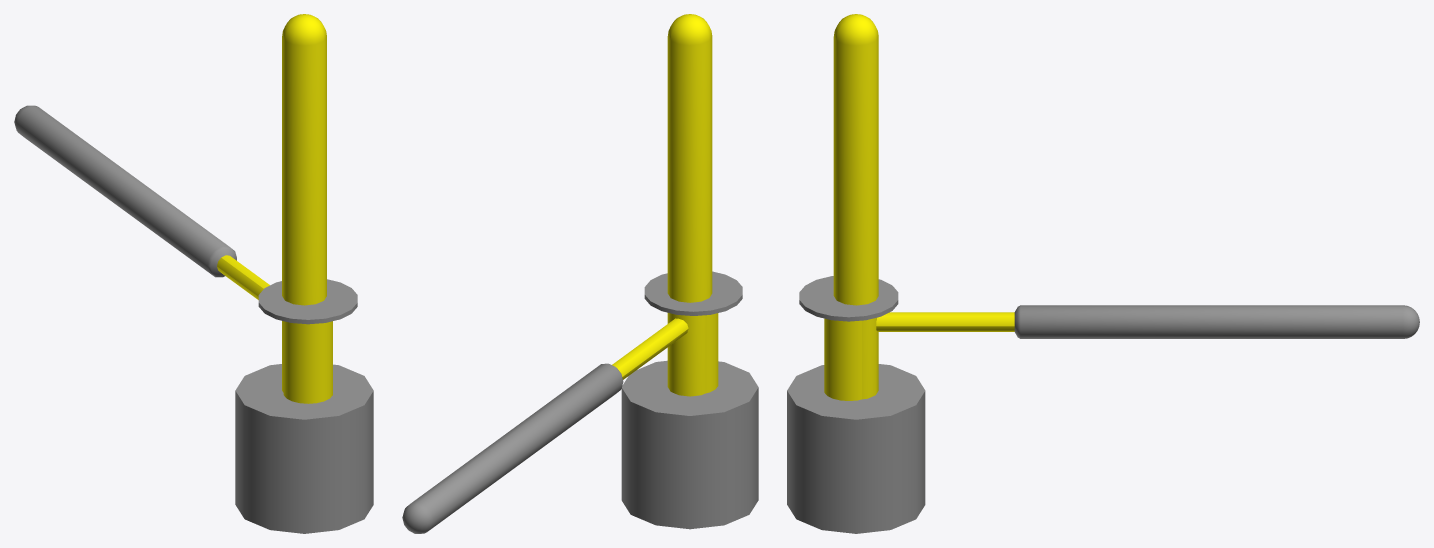
File: Jumping game.FBX
3 views of the same model, side by side, from view 1: azimuth 30°, elevation 25°; view 2: azimuth 150°, elevation 25°; view 3: azimuth 270°, elevation 25° (orthographic).
Visible parts, largest first — view 1: Capsule001, Capsule003, Cylinder008; view 2: Capsule001, Capsule003, Cylinder008; view 3: Capsule001, Capsule003, Cylinder008.
Boxes of the visible parts, bbox=[...] form: Capsule001: bbox=[235, 14, 373, 533]; Capsule003: bbox=[14, 105, 269, 299]; Cylinder008: bbox=[258, 279, 357, 403]; Capsule001: bbox=[621, 14, 758, 529]; Capsule003: bbox=[402, 318, 688, 533]; Cylinder008: bbox=[644, 271, 742, 393]; Capsule001: bbox=[787, 14, 925, 533]; Capsule003: bbox=[876, 305, 1419, 338]; Cylinder008: bbox=[799, 276, 898, 400].
Size of the model in its own units: 131 by 520 by 597.
